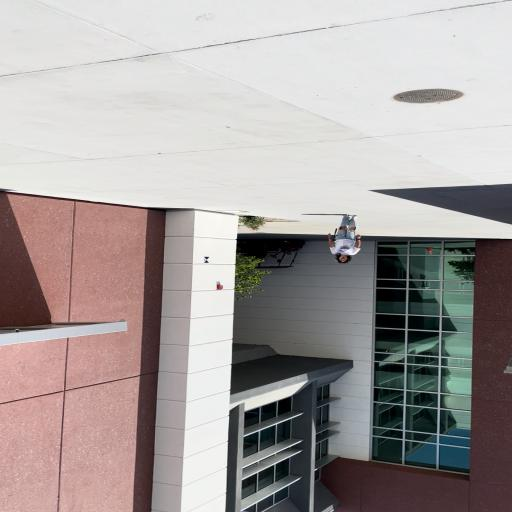target6: (204, 256, 210, 263)
